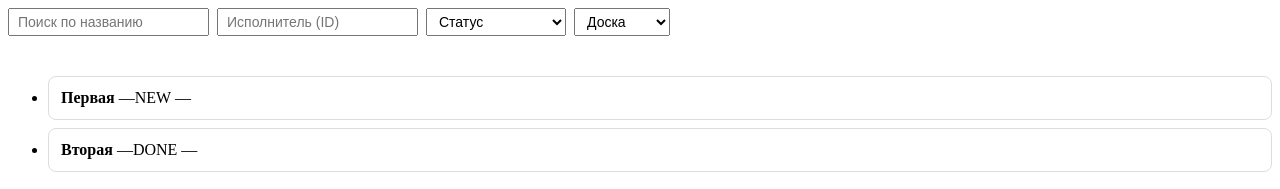
Test: TasksTable › фильтрует задачи по названию
In the field with placeholder "Поиск по названию": (108, 22) [8,8,209,36], type "втор"
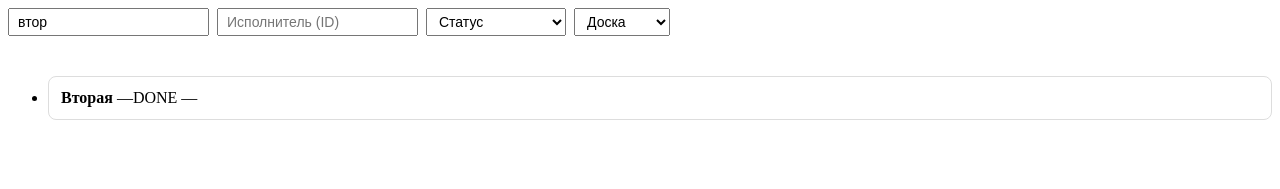
Check: the text "Вторая" is shown, box [61,89,113,106]
Check: the text "Первая" is gone
